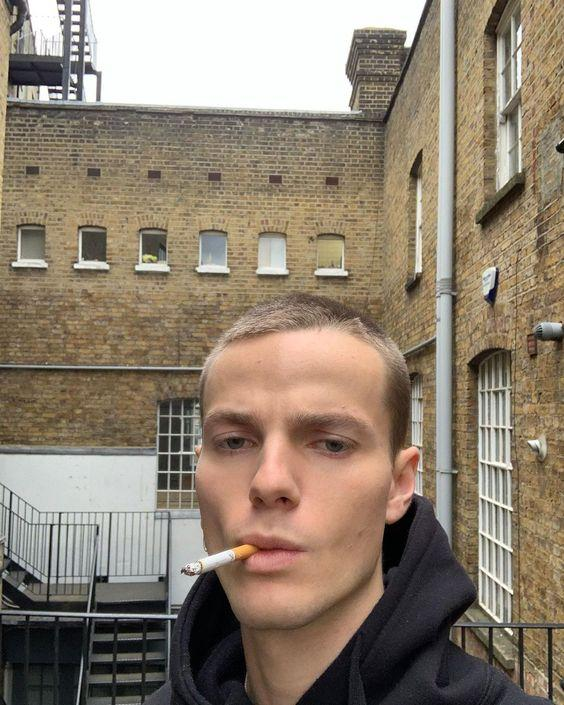cigarette: (180, 544, 257, 576)
